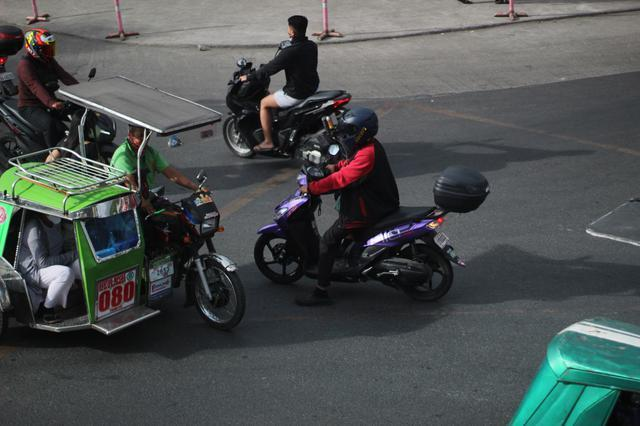helmet: (338, 108, 378, 150), (23, 25, 57, 67)
motorcycle: (254, 104, 465, 301), (223, 14, 355, 163)
